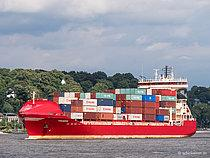Ship: (18, 66, 201, 141)
